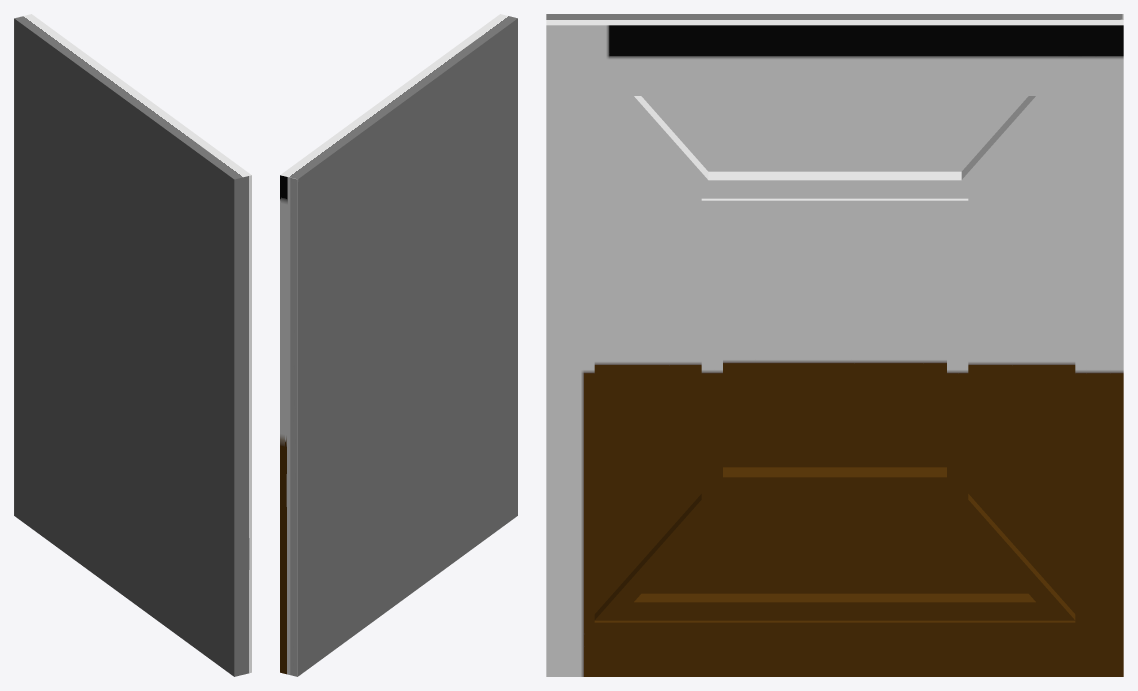
Rendered from Door2.obj.
3 renders of one model, left to right at view 1: azimuth 30°, elevation 25°; view 2: azimuth 150°, elevation 25°; view 3: azimuth 270°, elevation 25°, orthographic. The views are drawn at different scales.
Visible parts, largest first — view 1: Cube; view 2: Cube; view 3: Cube.
Part boxes in pixels (box(x1,y1,x2,y2)): Cube: box(14, 14, 251, 676); Cube: box(280, 14, 517, 676); Cube: box(546, 14, 1123, 676).
Size of the model in its own units: 0.3742 by 10.08 by 8.09.
